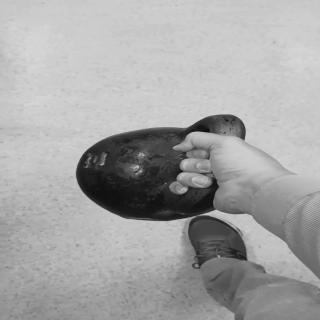girya: (77, 116, 249, 222)
